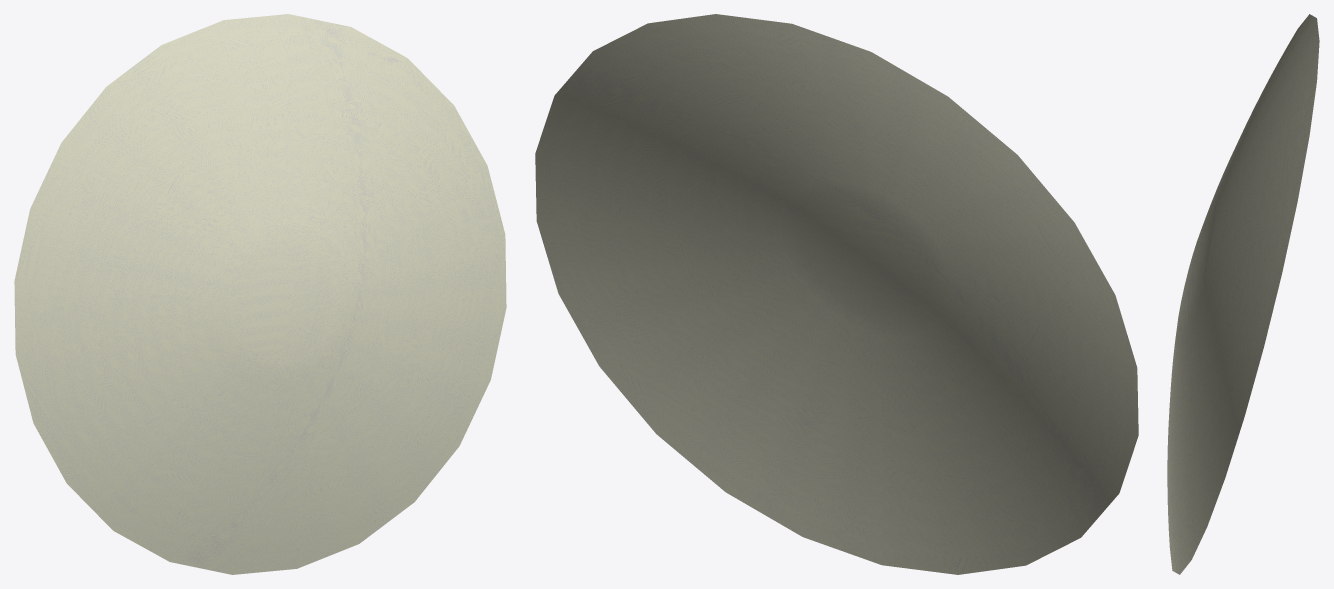
Rendered from original-136.obj.
3 views of the same model, side by side, from view 1: azimuth 30°, elevation 25°; view 2: azimuth 150°, elevation 25°; view 3: azimuth 270°, elevation 25° (orthographic). The views are drawn at different scales.
Parts seen in each view (by area): view 1: mesh83/mesh83-geometry/material_2#mesh83-geometry; view 2: mesh83/mesh83-geometry/material_2#mesh83-geometry; view 3: mesh83/mesh83-geometry/material_2#mesh83-geometry.
Boxes of the visible parts, <box> form: mesh83/mesh83-geometry/material_2#mesh83-geometry: <box>14,14,506,574</box>; mesh83/mesh83-geometry/material_2#mesh83-geometry: <box>535,14,1138,574</box>; mesh83/mesh83-geometry/material_2#mesh83-geometry: <box>1167,14,1319,574</box>.
Bounding box in the file's own units: 0.0401 × 0.0387 × 0.0105.
